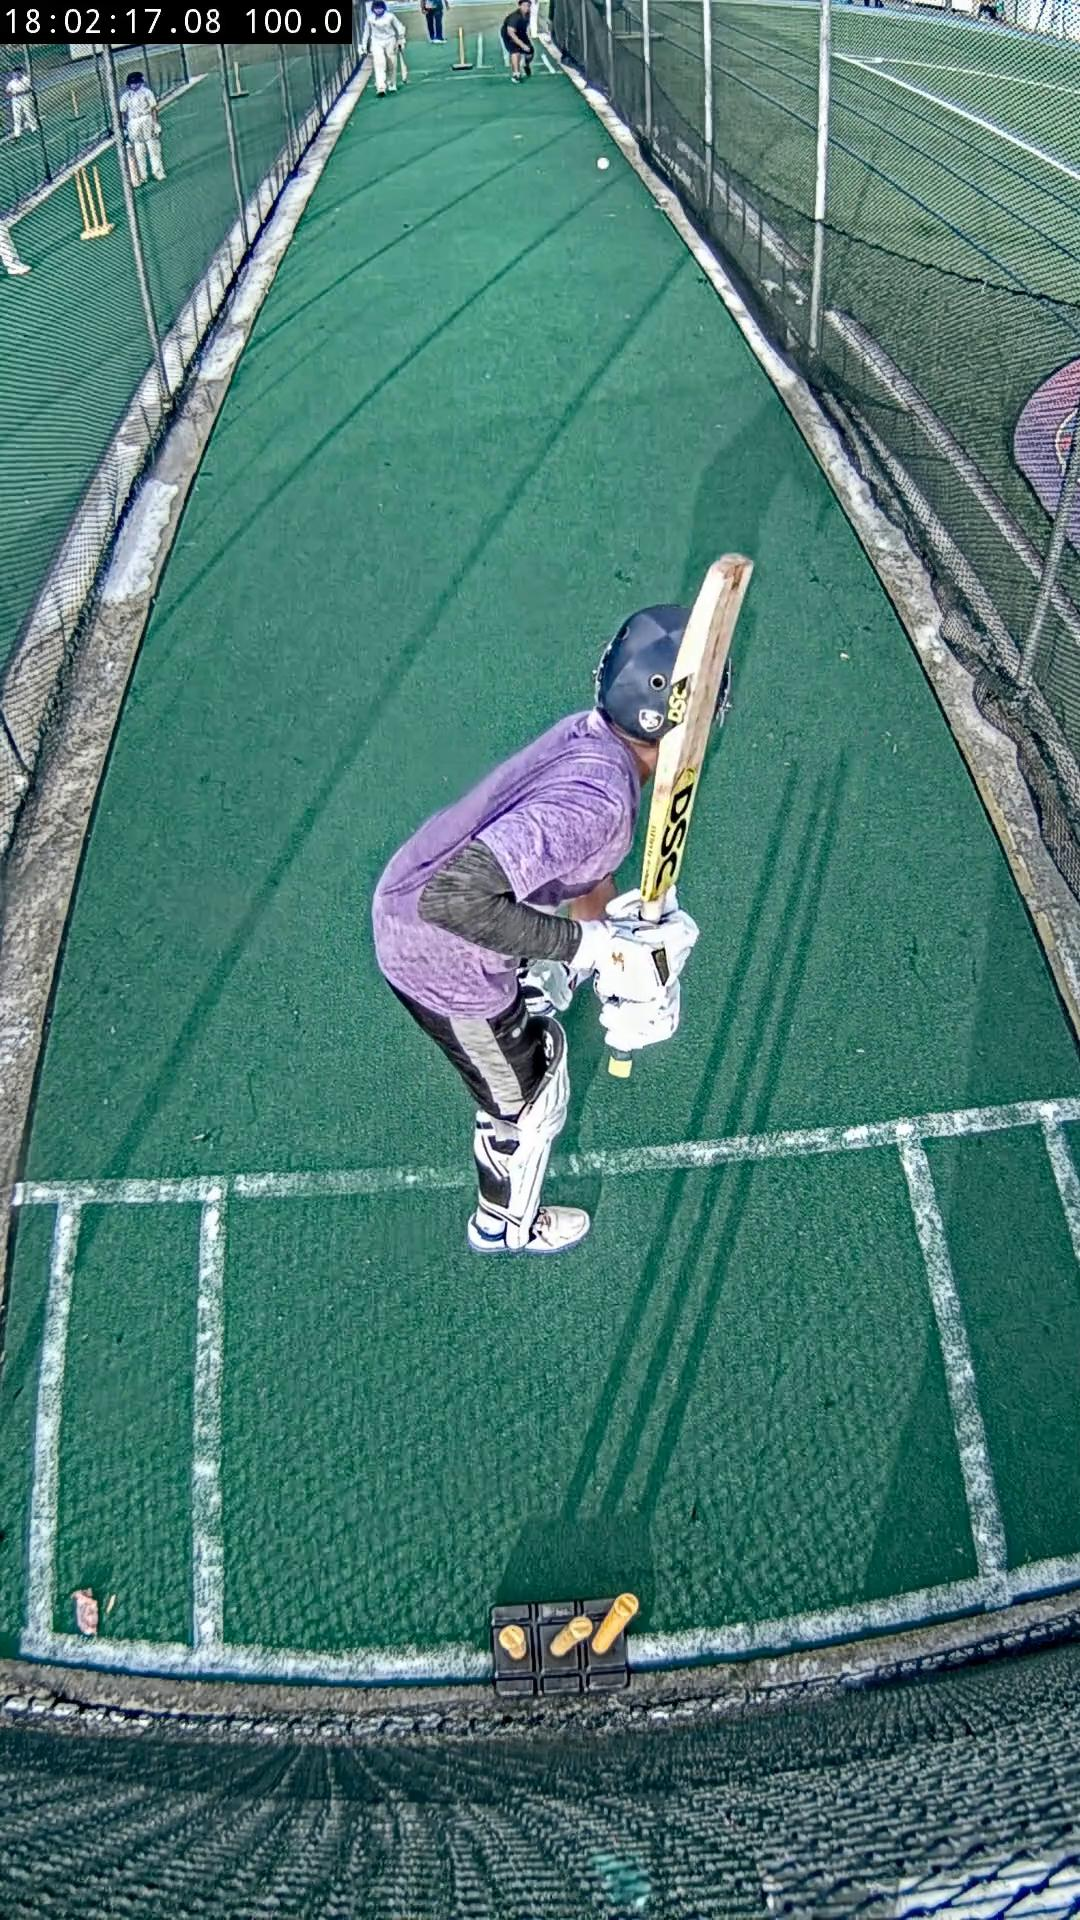ball: (596, 157, 612, 169)
bat: (641, 555, 754, 916)
gloves: (570, 889, 698, 1050)
helmet: (596, 604, 690, 741), (716, 667, 732, 721)
pads: (498, 1021, 570, 1253)
stumps: (492, 1594, 637, 1698)
